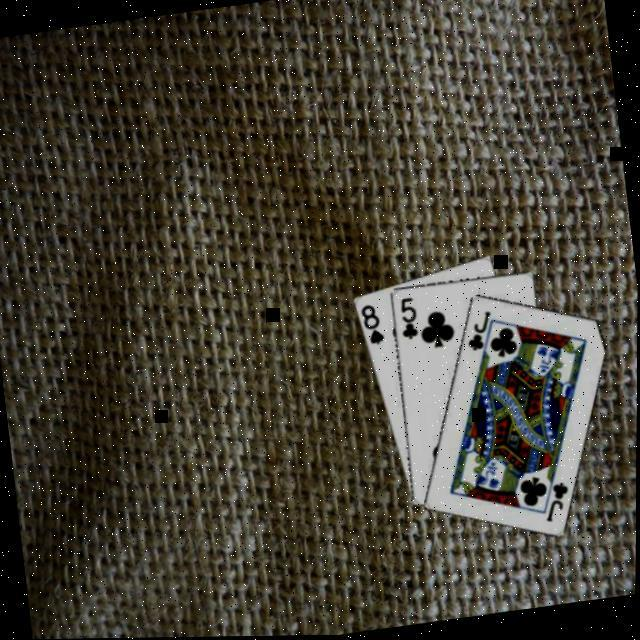5C: (397, 296, 424, 344)
8S: (358, 302, 388, 351)
JC: (463, 308, 500, 356), (540, 481, 576, 528)
